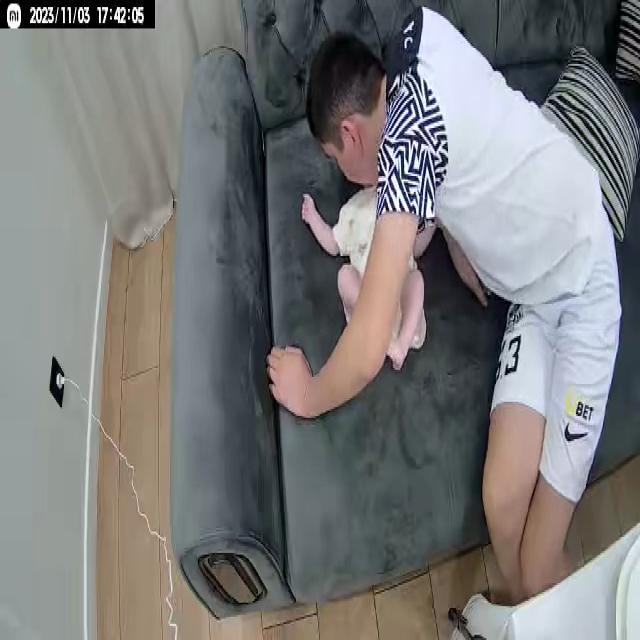baby: (300, 180, 438, 368)
